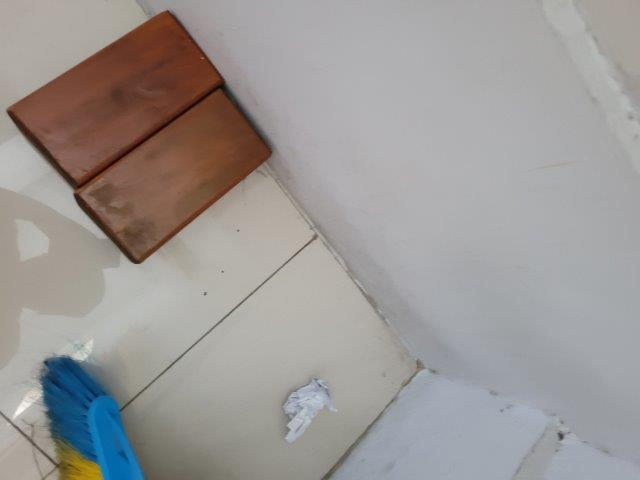kertas: (282, 380, 340, 441)
